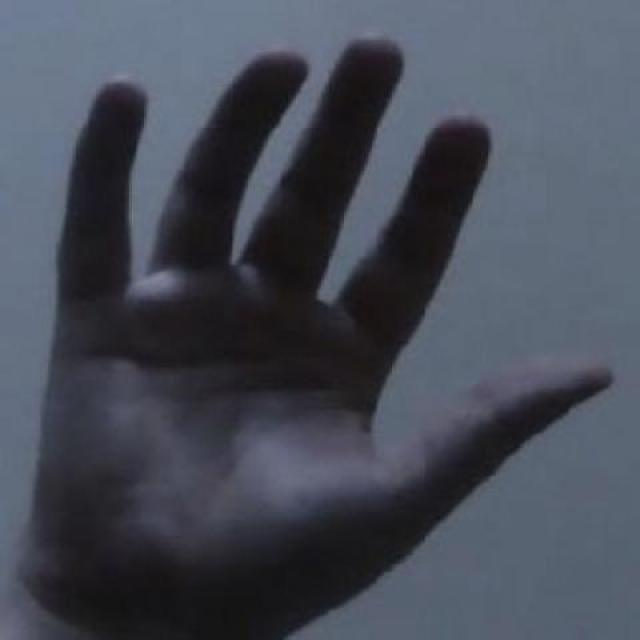Open Hand: (20, 2, 620, 640)
